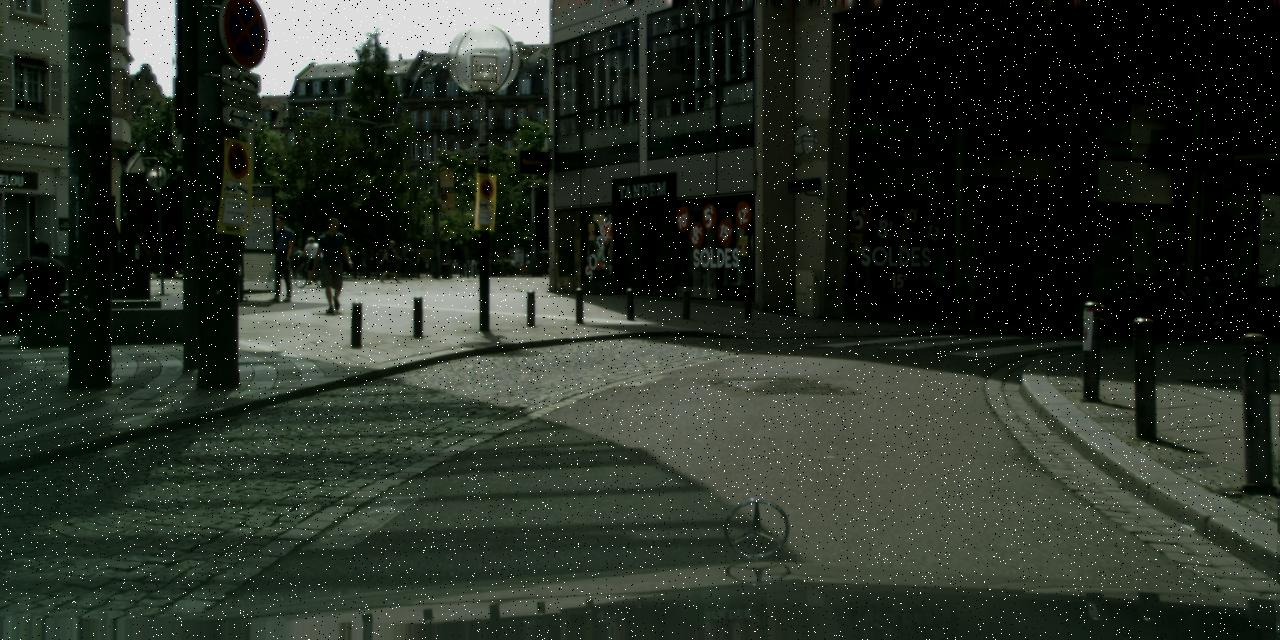ped: (315, 218, 353, 312), (263, 214, 298, 302), (304, 236, 322, 282), (383, 240, 400, 282), (288, 241, 302, 275), (405, 247, 415, 272)
